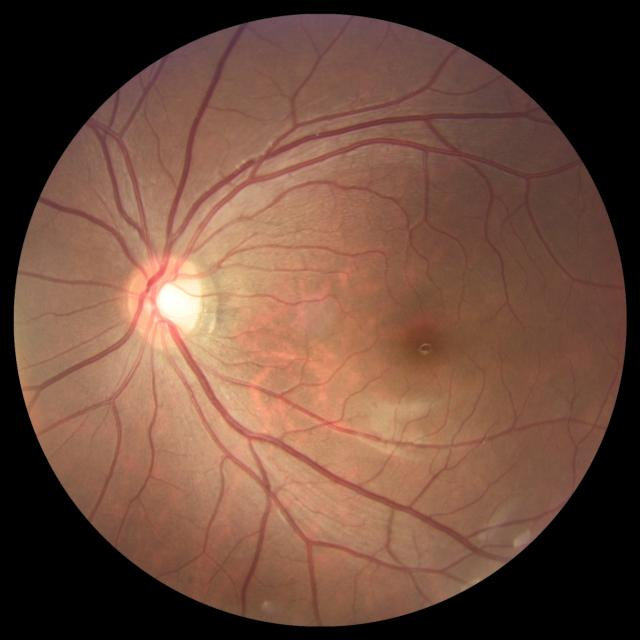OC: (150, 279, 193, 323)
OD: (124, 253, 203, 346)
